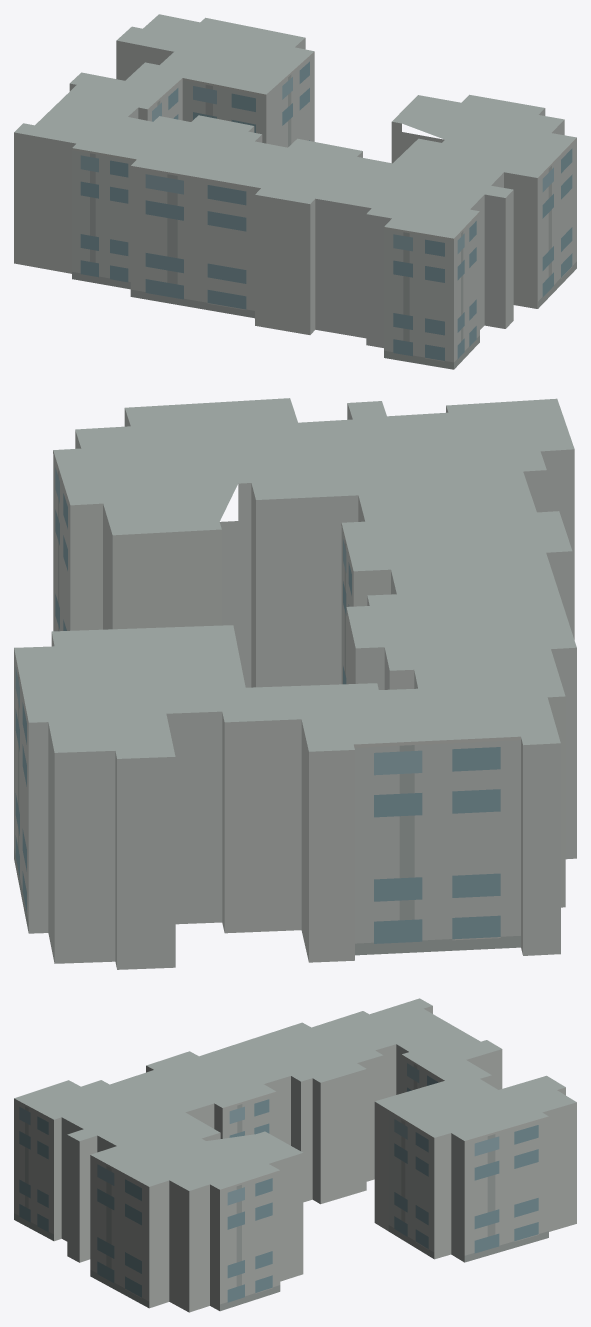
The model's file is residential-9500988a-5da1-4f8a-9c3a-5a743a1ce478.glb.
3 views of the same model, one above another, from view 1: azimuth 30°, elevation 25°; view 2: azimuth 150°, elevation 25°; view 3: azimuth 270°, elevation 25° (orthographic). The views are drawn at different scales.
Visible parts, largest first — view 1: residential-9500988a-5da1-4f8a-9c3a-5a743a1ce478.tmp; view 2: residential-9500988a-5da1-4f8a-9c3a-5a743a1ce478.tmp; view 3: residential-9500988a-5da1-4f8a-9c3a-5a743a1ce478.tmp.
Part boxes in pixels (left/top/right/bottom): residential-9500988a-5da1-4f8a-9c3a-5a743a1ce478.tmp: left=14, top=14, right=576, bottom=369; residential-9500988a-5da1-4f8a-9c3a-5a743a1ce478.tmp: left=14, top=398, right=576, bottom=969; residential-9500988a-5da1-4f8a-9c3a-5a743a1ce478.tmp: left=14, top=998, right=576, bottom=1312.
Bounding box in the file's own units: 51.89 × 15.25 × 64.05.
